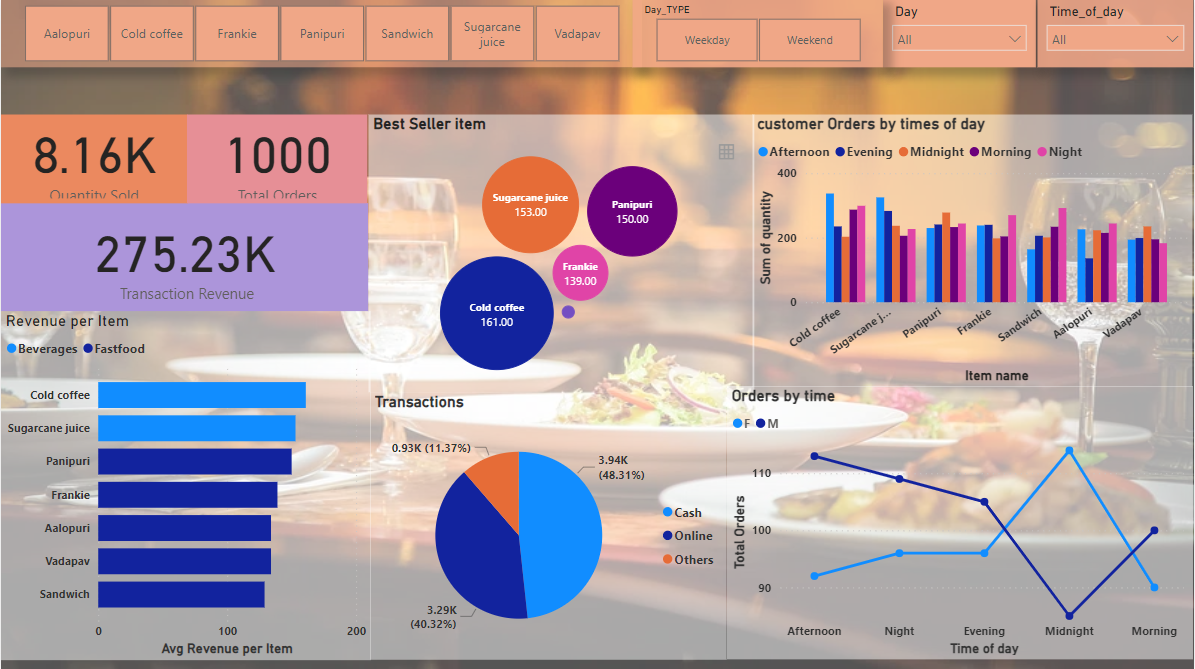

Layout of this report page (visuals, bound fields, positions):
{"tool":"powerbi","page":{"name":"Page 1","canvas":[1280,720],"ordinal":0},"visuals":[{"type":"barChart","title":"Revenue per Item","fields":{"Category":["sql_file.item_name"],"Y":["CountNonNull(sql_file.Average Revenue per Item)"],"Series":["sql_file.item_type"]},"box":[3.2,353.7,377.4,336.3],"z":0},{"type":"pieChart","title":"Transactions","fields":{"Category":["sql_file.transaction_type"],"Y":["Sum(sql_file.quantity)"]},"box":[432.3,421.2,346.5,287.7],"z":1000},{"type":"actionButton","box":[0,0,100,40],"z":2000},{"type":"packedBubble563FBEFA65CC43A48496B6BB533D9890","title":"Best Seller item","fields":{"measure":["CountNonNull(sql_file.Total Quantity Sold)"],"category":["sql_file.item_name"]},"box":[396.3,123.2,410.5,298.4],"z":3000},{"type":"card","fields":{"Values":["Sum(sql_file.transaction_amount)"]},"box":[0,219.3,394.2,116],"z":4000},{"type":"slicer","fields":{"Values":["sql_file.Day"]},"box":[1090.3,0,189.1,73.1],"z":5000},{"type":"card","fields":{"Values":["Sum(sql_file.quantity)"]},"box":[0,106.5,200.3,112.8],"z":6000},{"type":"slicer","fields":{"Values":["sql_file.item_name"]},"box":[36.6,0,688.2,73.1],"z":7000},{"type":"clusteredColumnChart","title":"customer Orders by times of day  ","fields":{"Series":["sql_file.time_of_sale"],"Y":["Sum(sql_file.quantity)"],"Category":["sql_file.item_name"]},"box":[806.9,123.2,472.1,292.1],"z":8000},{"type":"lineChart","title":"Orders by time","fields":{"Y":["sql_file.Total Orders"],"Series":["sql_file.received_by"],"Category":["sql_file.time_of_sale"]},"box":[806.9,429.5,472.1,271.6],"z":9000},{"type":"card","fields":{"Values":["sql_file.Total Orders"]},"box":[200.3,106.5,193.9,112.8],"z":10000},{"type":"slicer","fields":{"Values":["sql_file.Day_TYPE"]},"box":[747,0,321.1,50.9],"z":11000},{"type":"slicer","fields":{"Values":["sql_file.time_of_sale"]},"box":[747,57.2,321.1,60.4],"z":12000}]}

Visuals, with their boxes in screenshot pixels (x1, y1, x2, y2), scaled from the page's 1280x720 canvas onto the 1195x669 screenshot:
"Revenue per Item" barChart: [left=3, top=329, right=355, bottom=641]
"Transactions" pieChart: [left=404, top=391, right=727, bottom=659]
actionButton: [left=0, top=0, right=93, bottom=37]
"Best Seller item" packedBubble563FBEFA65CC43A48496B6BB533D9890: [left=370, top=114, right=753, bottom=392]
card - Sum(sql_file.transaction_amount): [left=0, top=204, right=368, bottom=312]
slicer - sql_file.Day: [left=1018, top=0, right=1194, bottom=68]
card - Sum(sql_file.quantity): [left=0, top=99, right=187, bottom=204]
slicer - sql_file.item_name: [left=34, top=0, right=677, bottom=68]
"customer Orders by times of day  " clusteredColumnChart: [left=753, top=114, right=1194, bottom=386]
"Orders by time" lineChart: [left=753, top=399, right=1194, bottom=651]
card - sql_file.Total Orders: [left=187, top=99, right=368, bottom=204]
slicer - sql_file.Day_TYPE: [left=697, top=0, right=997, bottom=47]
slicer - sql_file.time_of_sale: [left=697, top=53, right=997, bottom=109]
